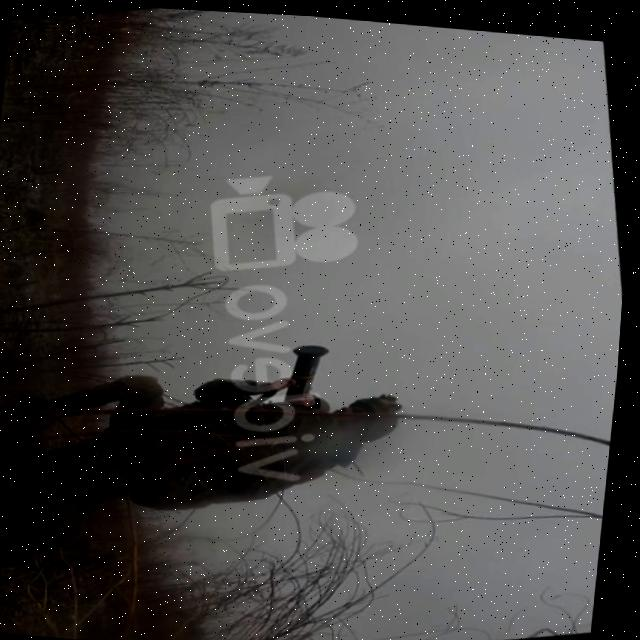rocket: (265, 335, 340, 409)
